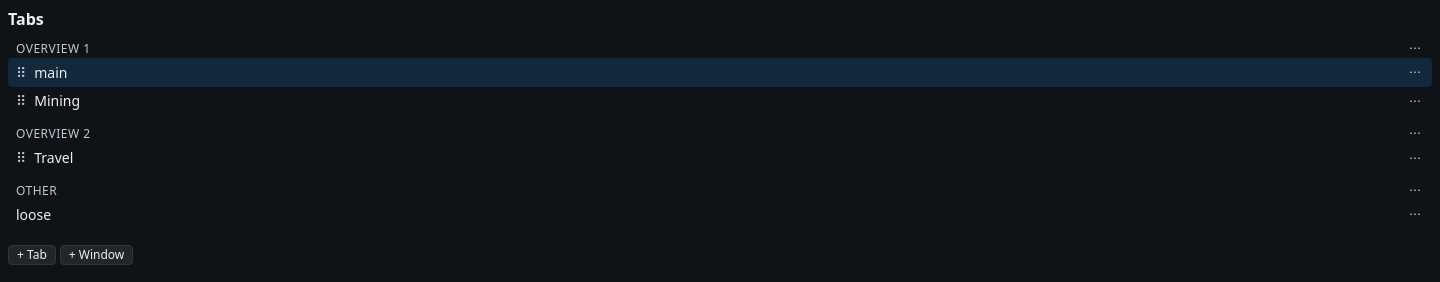
Test: the window menu › Other's New tab says where the tab will land
Click the button named "Other actions" at (1415, 190), box [1406,180,1424,200]
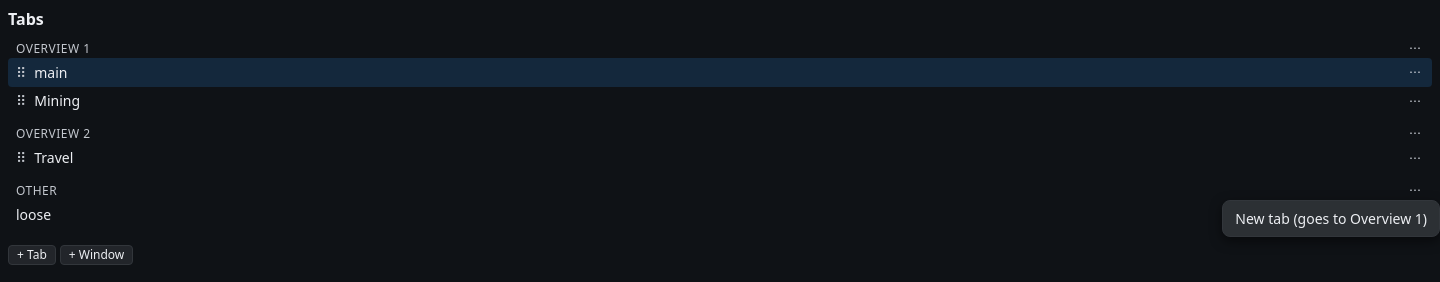
Expected: the menu item "New tab (goes to Overview 1)" is shown, [1227,205,1435,232]
